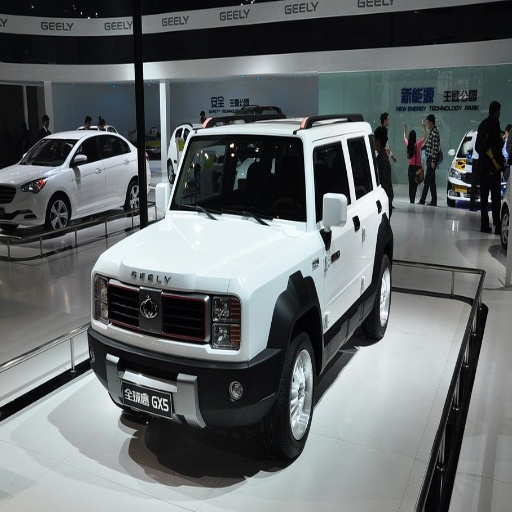front_bumper: (88, 275, 281, 432)
front_glass: (171, 136, 303, 221)
front_left_door: (321, 187, 354, 333), (73, 135, 105, 183)
